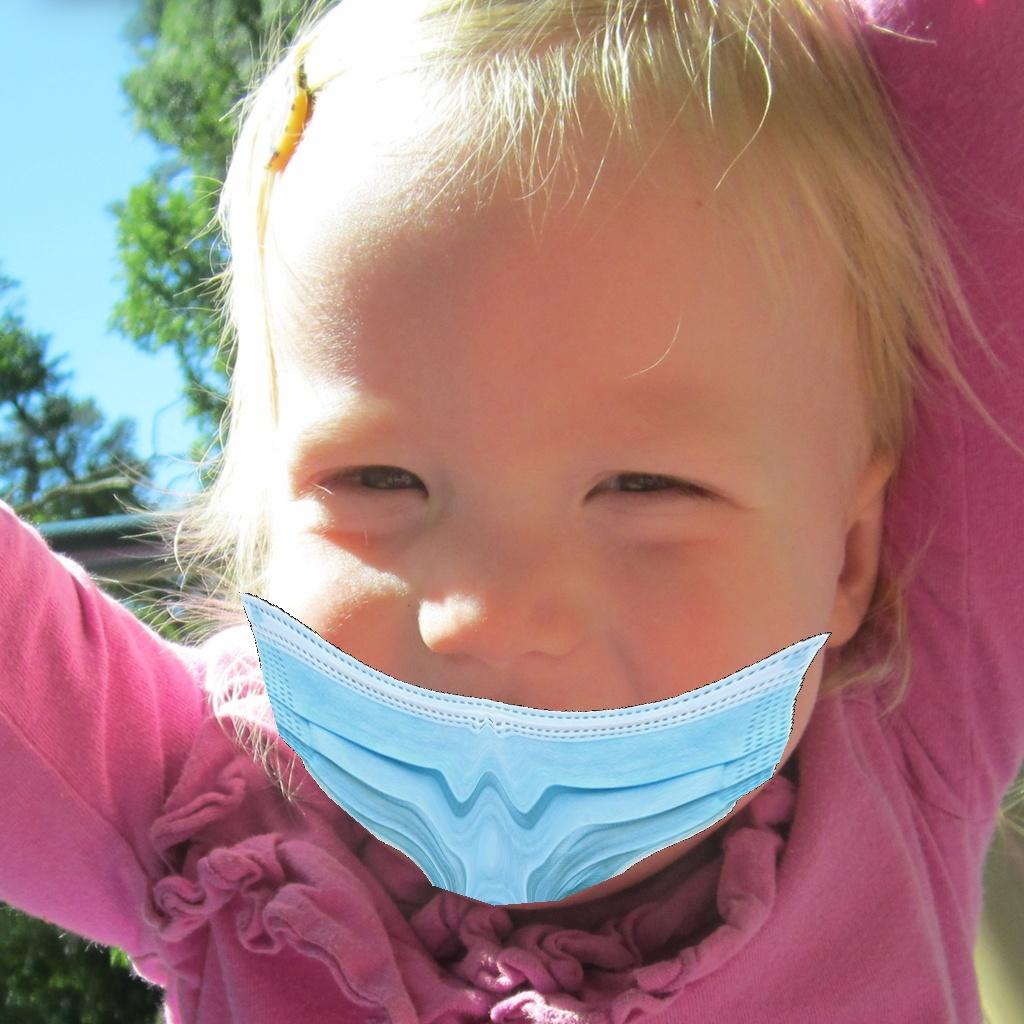Máscara Incorreta: (235, 249, 851, 899)
